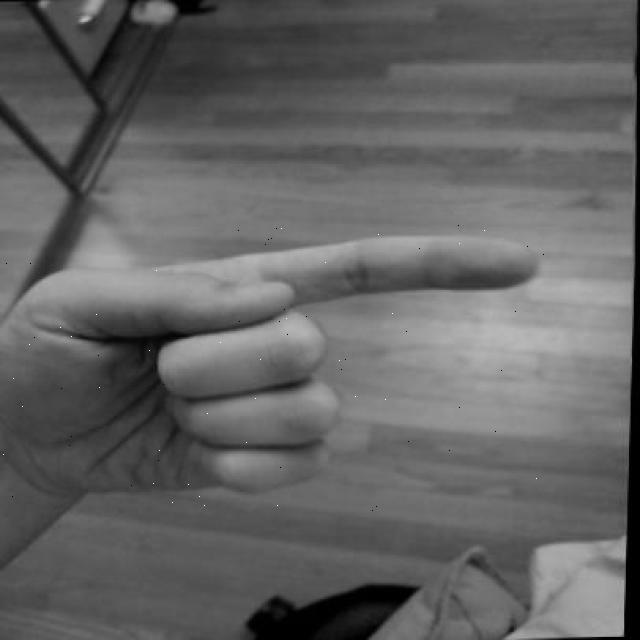G: (0, 224, 560, 512)
